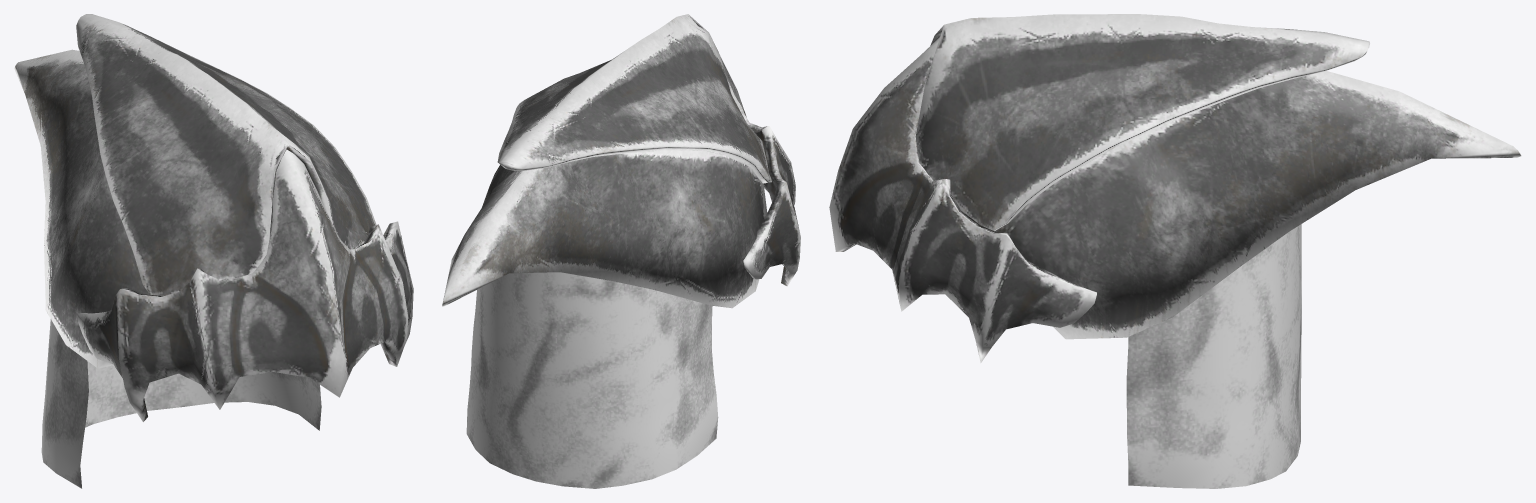
File: moriaorc_v3_helmet.fbx
3 renders of one model, left to right at view 1: azimuth 30°, elevation 25°; view 2: azimuth 150°, elevation 25°; view 3: azimuth 270°, elevation 25°, orthographic. The views are drawn at different scales.
Parts seen in each view (by area): view 1: moriaorc_v3_helmet; view 2: moriaorc_v3_helmet; view 3: moriaorc_v3_helmet.
Part boxes in pixels (x1,y1,x2,y2): moriaorc_v3_helmet: (14,14,413,488); moriaorc_v3_helmet: (442,14,800,488); moriaorc_v3_helmet: (829,14,1521,488).
Bounding box in the file's own units: 0.233 × 0.4503 × 0.3074.
Materials: 1 (1 with a texture image).
